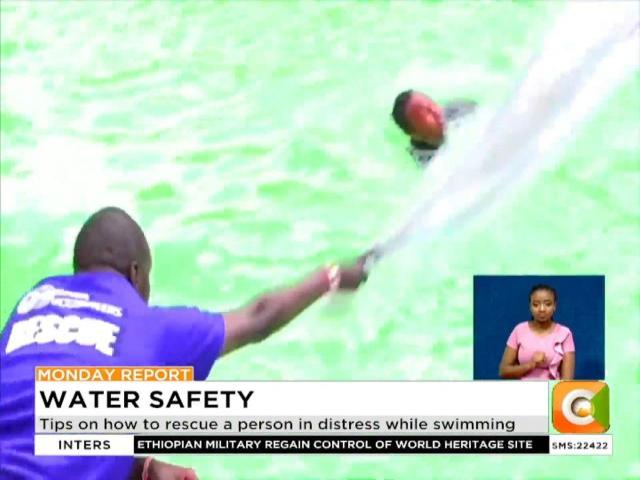drowning: (382, 80, 480, 170)
out of water: (6, 202, 276, 418)
